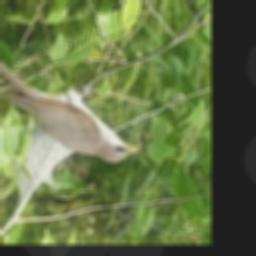Cuckoo: (0, 38, 144, 162)
